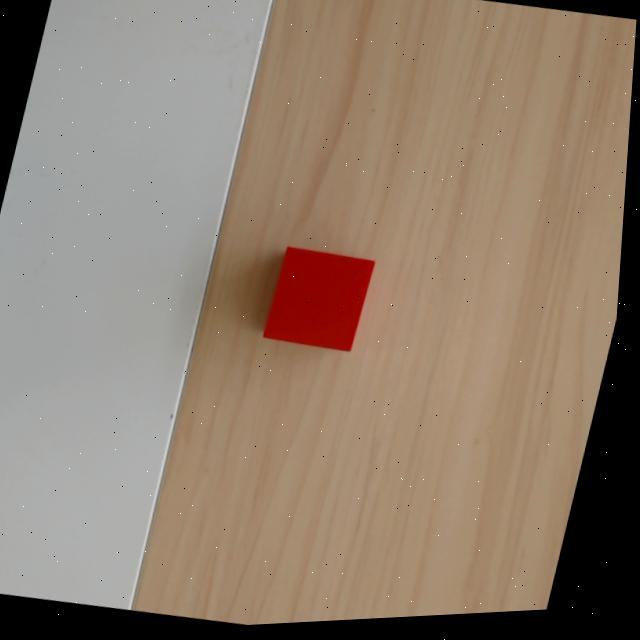Kubus-Merah-505050: (262, 235, 376, 360)
